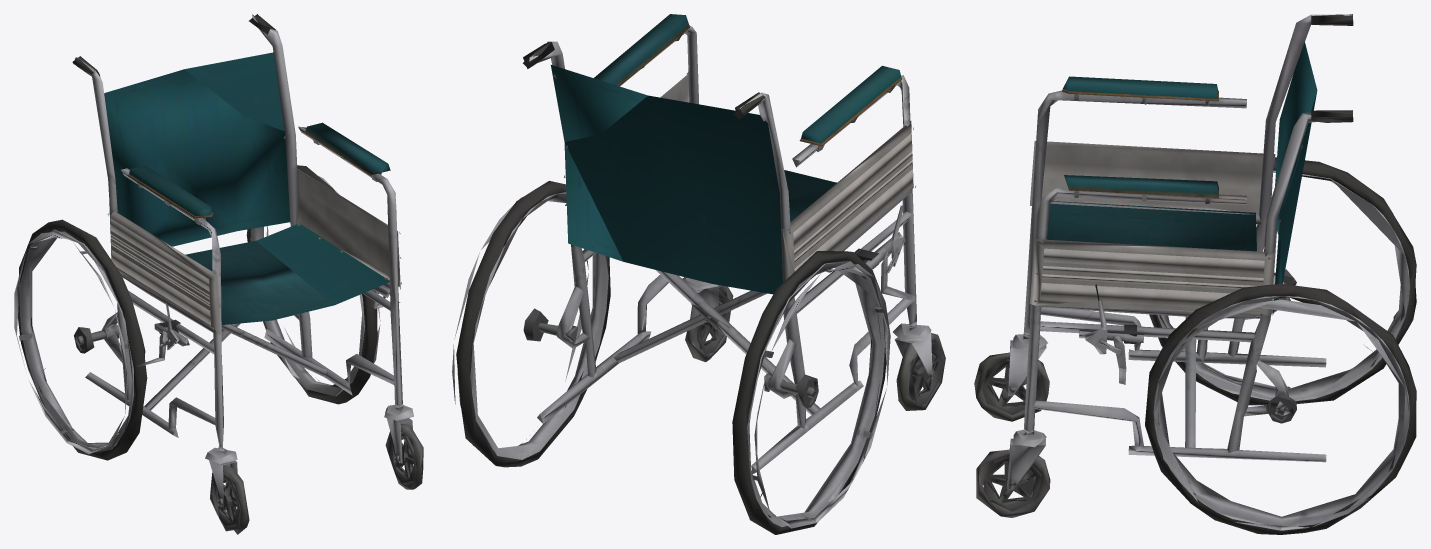
The model's file is wheelchair_01.glb.
The picture shows the model from 3 angles, left to right: view 1: azimuth 30°, elevation 25°; view 2: azimuth 150°, elevation 25°; view 3: azimuth 270°, elevation 25°; orthographic projection. The views are drawn at different scales.
Parts seen in each view (by area): view 1: wheelchair_01; view 2: wheelchair_01; view 3: wheelchair_01.
Part boxes in pixels (x1=…): wheelchair_01: x1=14, y1=14, x2=423, y2=534; wheelchair_01: x1=452, y1=14, x2=945, y2=534; wheelchair_01: x1=974, y1=14, x2=1416, y2=534.
Size of the model in its own units: 0.8241 by 1.1 by 1.08.
Materials: 1 (1 with a texture image).
